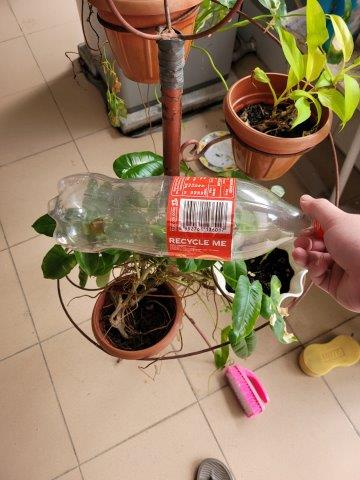botolplastik: (47, 172, 324, 266)
